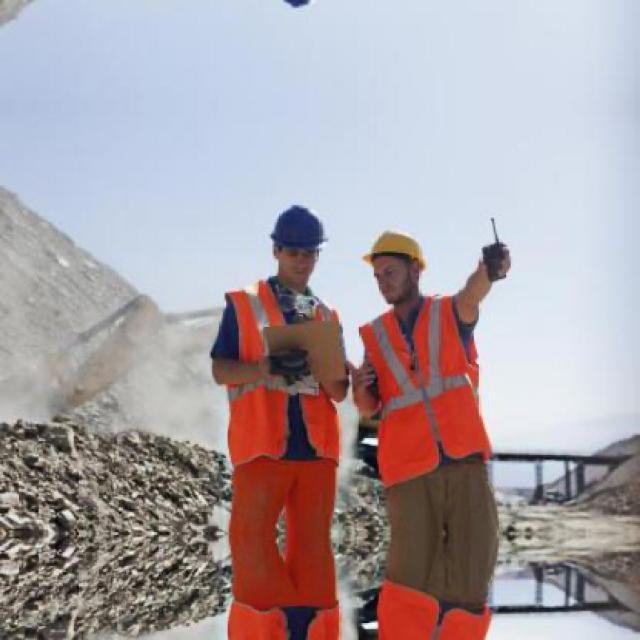helmet: (357, 219, 434, 310), (266, 198, 336, 292)
